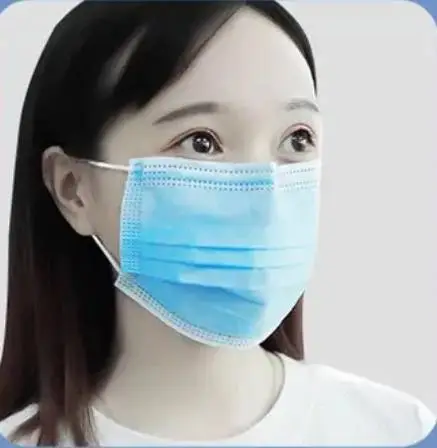withmask: (37, 1, 339, 370)
